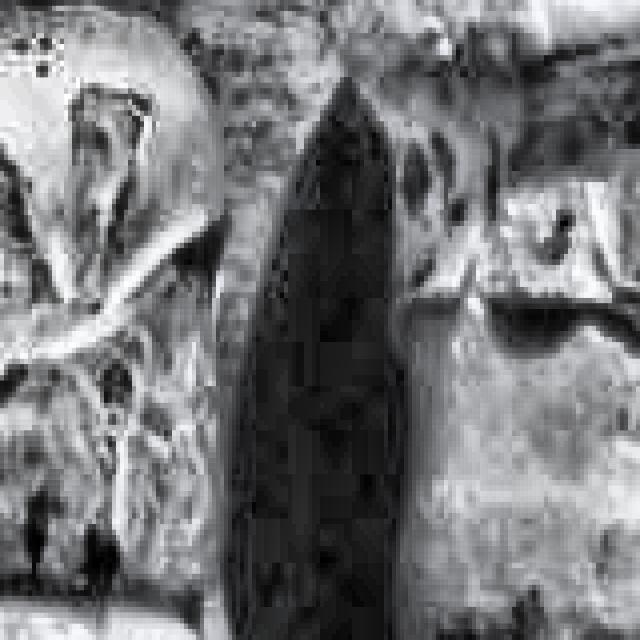Affected: (468, 0, 640, 353), (0, 110, 148, 387)
